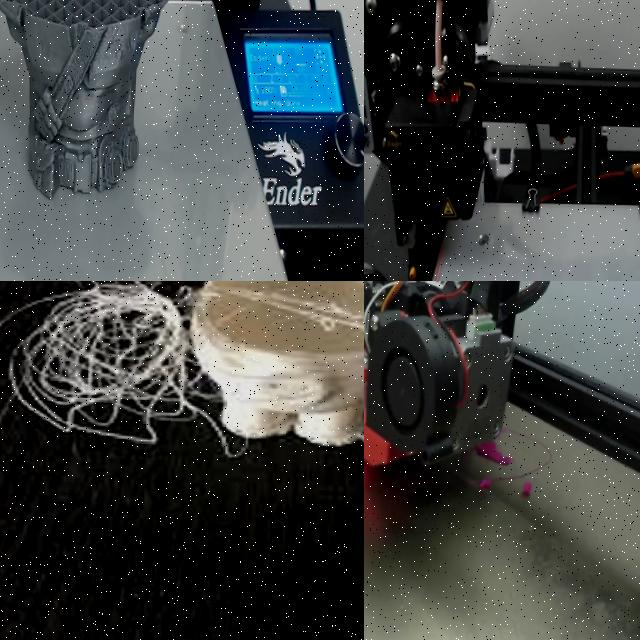spaghetti: (0, 281, 194, 475), (475, 440, 512, 464), (478, 477, 491, 490), (522, 482, 531, 496)
